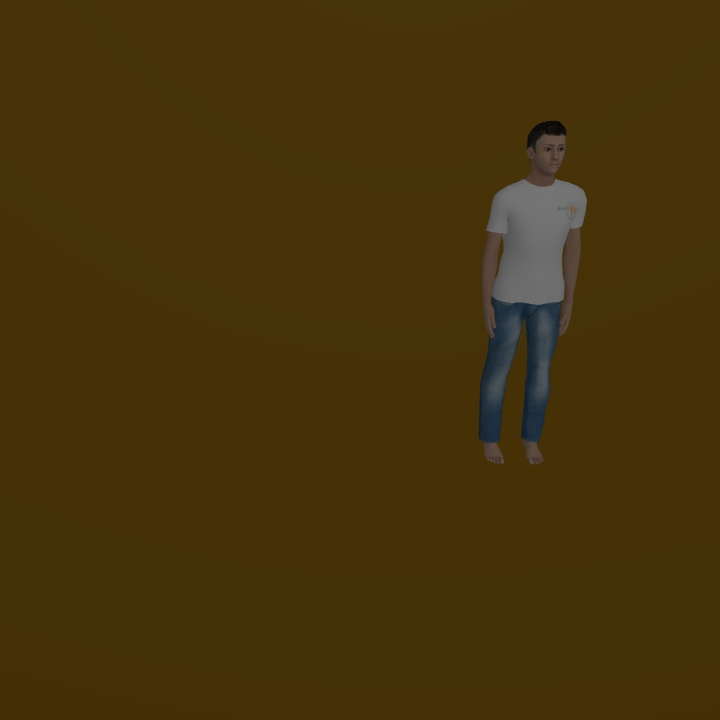victim: (478, 119, 589, 464)
